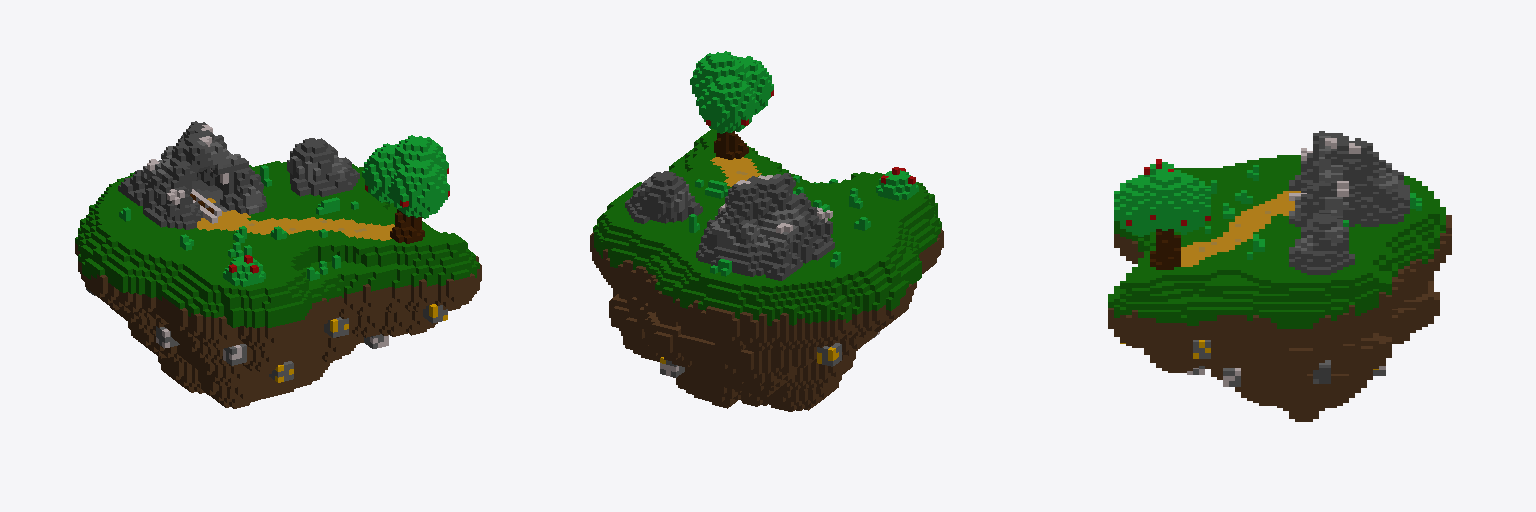
3 renders of one model, left to right at view 1: azimuth 30°, elevation 25°; view 2: azimuth 150°, elevation 25°; view 3: azimuth 270°, elevation 25°, orthographic.
Parts seen in each view (by area): view 1: object 1; view 2: object 1; view 3: object 1.
Part boxes in pixels (x1,y1,x2,y2): object 1: (75,121,481,408); object 1: (590,51,943,411); object 1: (1108,131,1451,421).
Bounding box in the file's own units: 5.7 × 4.8 × 5.7.
1 materials, 1 textured.